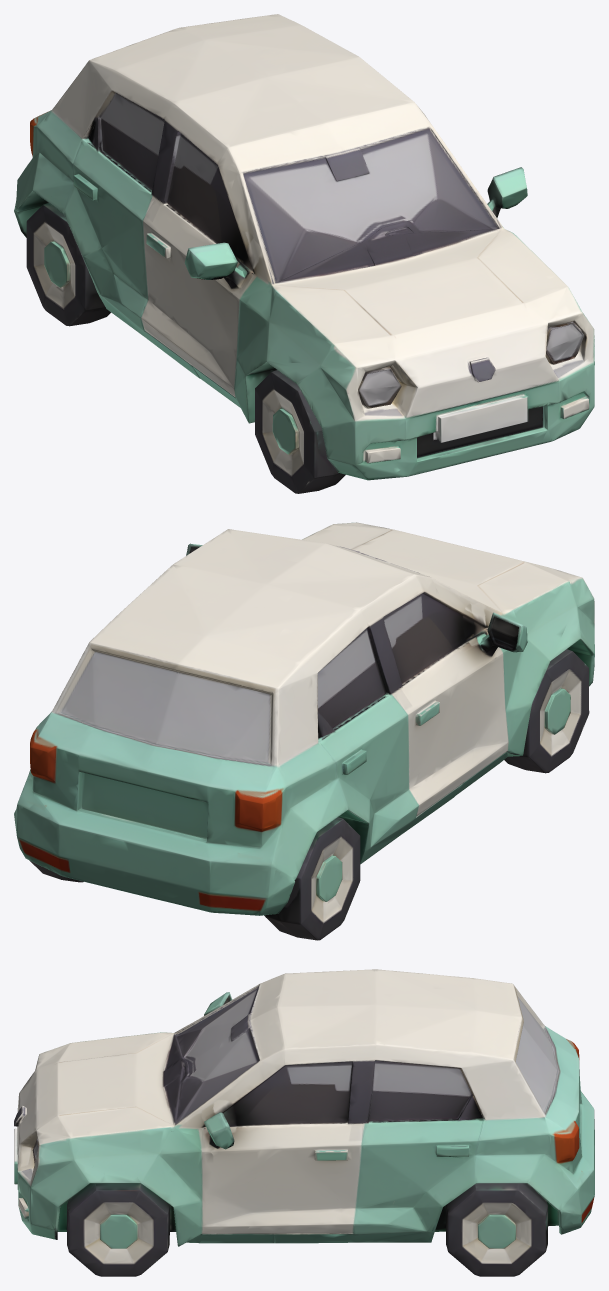
Rendered from car13.fbx.
The picture shows the model from 3 angles, top to bottom: view 1: azimuth 30°, elevation 25°; view 2: azimuth 150°, elevation 25°; view 3: azimuth 270°, elevation 25°; orthographic projection. The views are drawn at different scales.
Parts seen in each view (by area): view 1: node_0; view 2: node_0; view 3: node_0.
Part boxes in pixels (<box>): node_0: <box>14,14,594,493</box>; node_0: <box>14,522,594,940</box>; node_0: <box>14,969,594,1276</box>.
Size of the model in its own units: 62.52 by 46.88 by 114.
